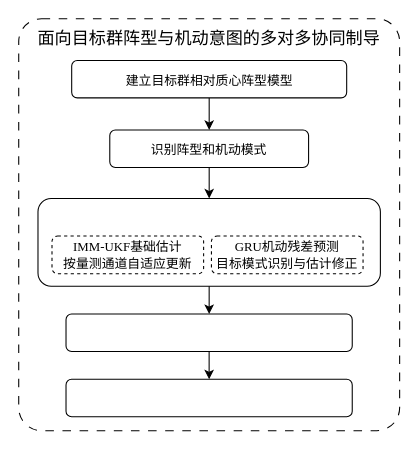
Some shapes in this 418 by 449 pixel diagram are drawn without their labels. Here are the shapes that lost their labels. From the top down, the box of each, then its label:
(37, 197, 380, 286): 研究考虑可达性和能量的目标分配
(65, 313, 352, 351): 状态加速度联合估计及可信度输出
(65, 378, 352, 417): 视场、过载与终端约束下的鲁棒制导仿真
